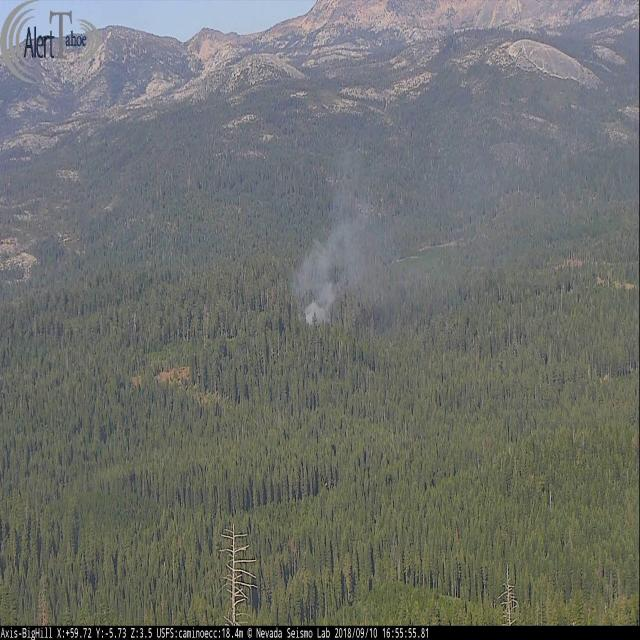smoke: (291, 63, 586, 327)
